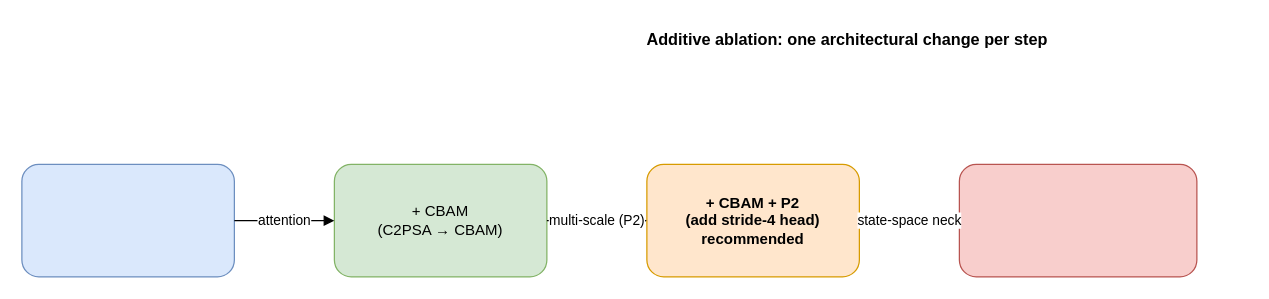
Image size: 1269x299. Some labels were removed from this diagram. Here are the shapes that lost their labels. From the top down, the centre of each, then its label:
(127,220): YOLO11m baseline (C2PSA, P3–P5)
(1077,220): + Mamba + CBAM + P2 (C3k2 → C3k2Mamba) explored, no gain
